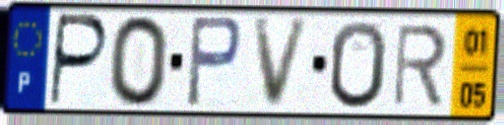O: (107, 12, 172, 110), (329, 18, 390, 112)
P: (46, 10, 112, 110), (183, 13, 245, 111)
R: (390, 21, 450, 110)
V: (250, 15, 314, 113)
